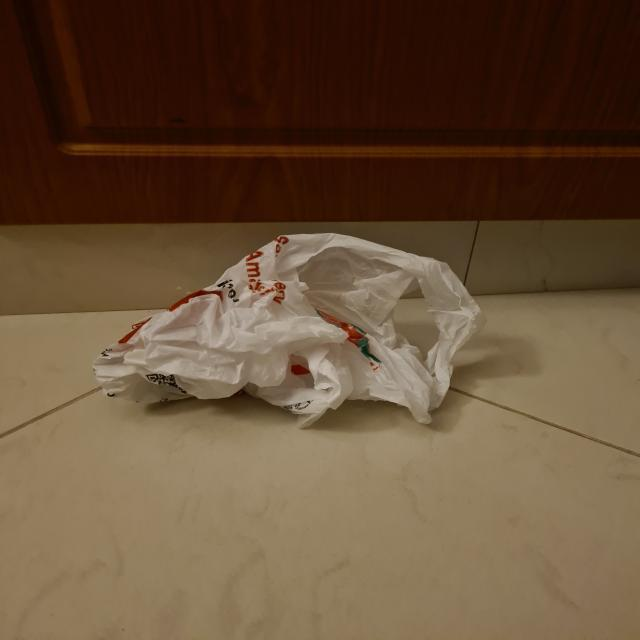Plastic_Bag: (94, 237, 488, 432)
